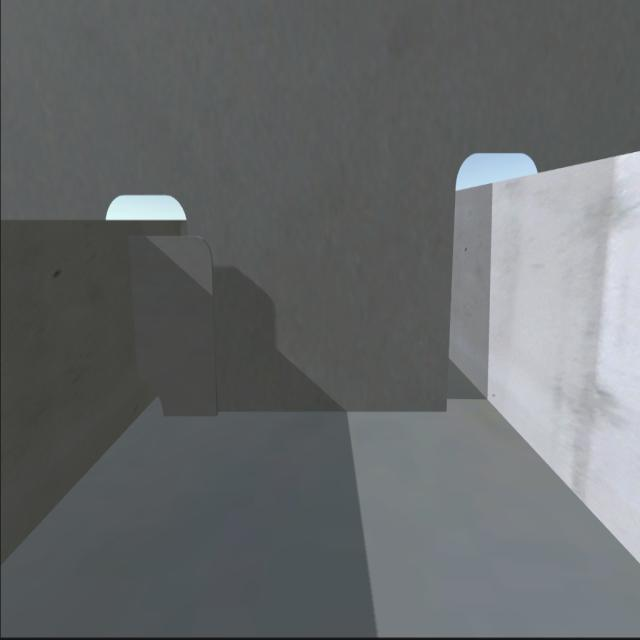fillet_hole: (139, 382, 174, 423)
fillet_yong_jeop_jang: (162, 402, 449, 427)
longi_yong_jeop_jang: (124, 234, 146, 394)
plate_CP05: (128, 233, 218, 412)
